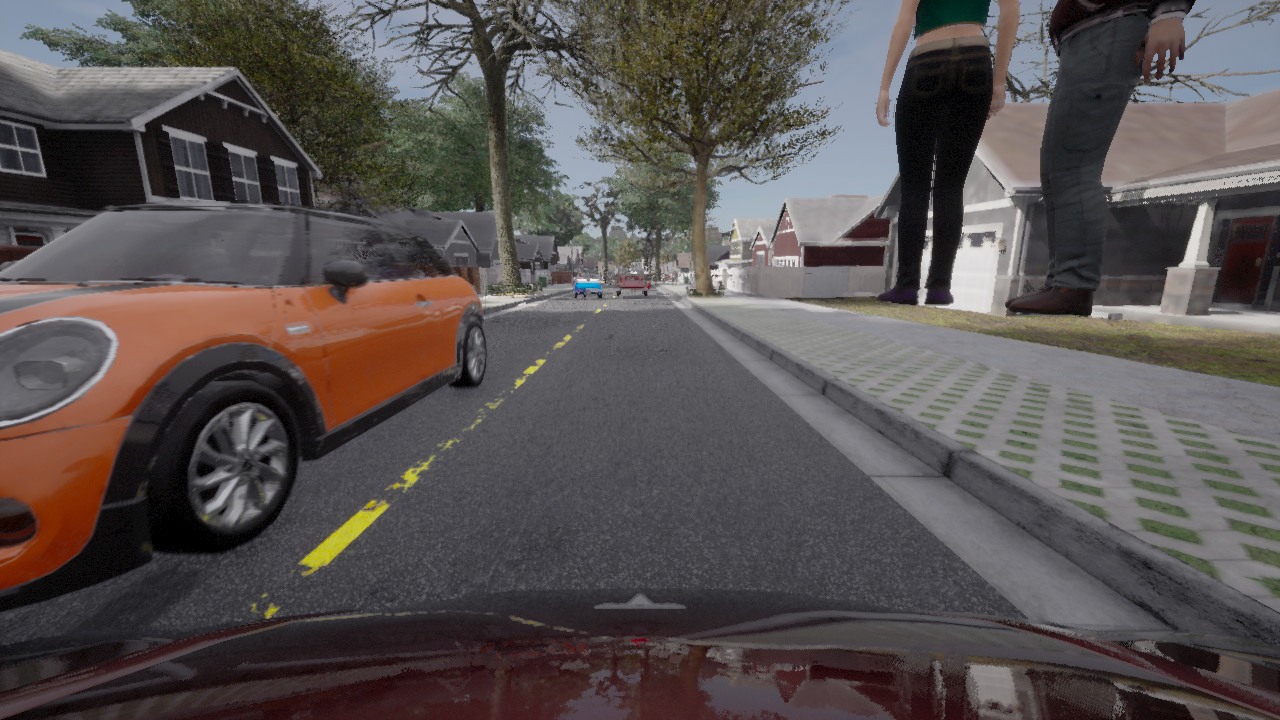cyclist: (0, 202, 486, 612), (0, 588, 1279, 719), (630, 272, 649, 291), (630, 271, 649, 286), (602, 274, 612, 288)
pedestrian: (1005, 0, 1196, 315), (874, 0, 1017, 305)
